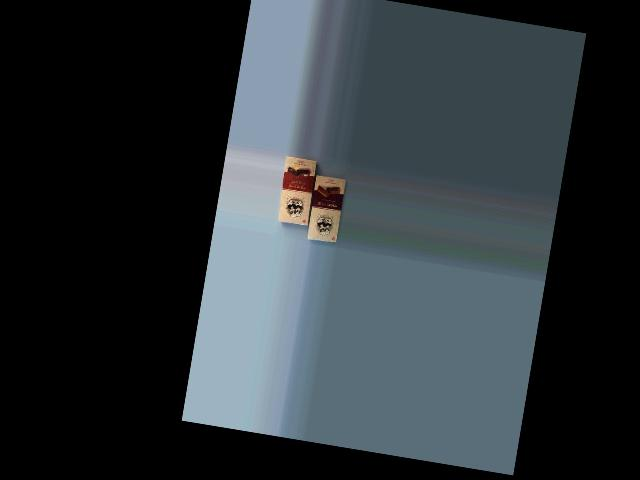chocolate: (274, 154, 324, 230)
